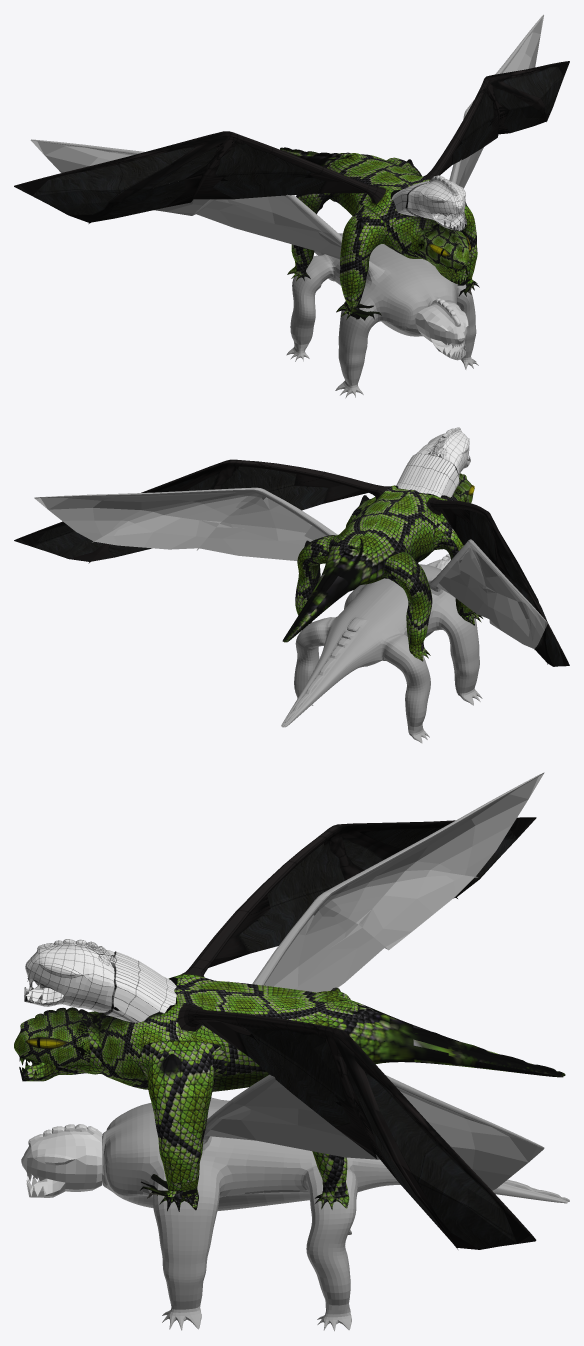
File: monster_000030.obj
3 views of the same model, one above another, from view 1: azimuth 30°, elevation 25°; view 2: azimuth 150°, elevation 25°; view 3: azimuth 270°, elevation 25° (orthographic). The views are drawn at different scales.
Visible parts, largest first — view 1: body_Cube, bodyCopy_Cube.003, secondHead_Cube.002, headcopy_Cube.006; view 2: bodyCopy_Cube.003, body_Cube, secondHead_Cube.002; view 3: body_Cube, bodyCopy_Cube.003, secondHead_Cube.002, headcopy_Cube.006.
Boxes of the visible parts, x1,y1,x2,y2 form: body_Cube: [14, 61, 569, 320]; bodyCopy_Cube.003: [30, 14, 543, 398]; secondHead_Cube.002: [391, 175, 466, 230]; headcopy_Cube.006: [415, 298, 468, 360]; bodyCopy_Cube.003: [34, 487, 547, 743]; body_Cube: [14, 459, 569, 666]; secondHead_Cube.002: [396, 427, 470, 497]; body_Cube: [14, 817, 565, 1249]; bodyCopy_Cube.003: [102, 772, 569, 1331]; secondHead_Cube.002: [24, 939, 176, 1022]; headcopy_Cube.006: [21, 1124, 101, 1197].
Size of the model in its own units: 9.62 by 4.01 by 5.56.
